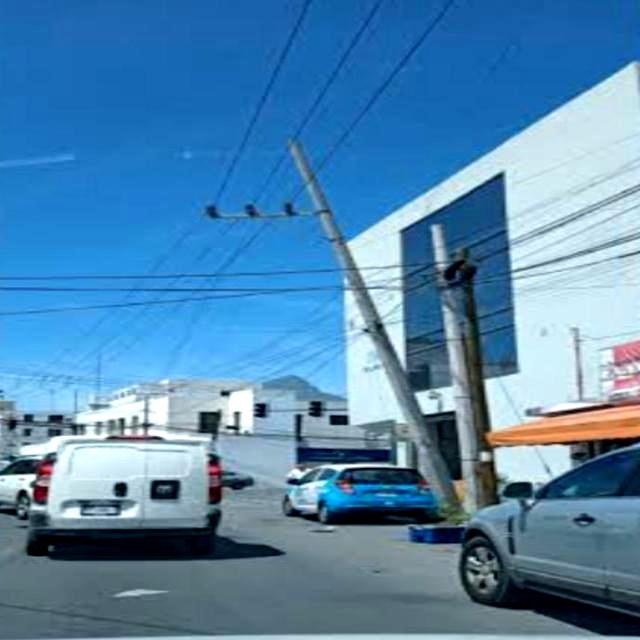Broken Pole: (198, 135, 462, 510)
